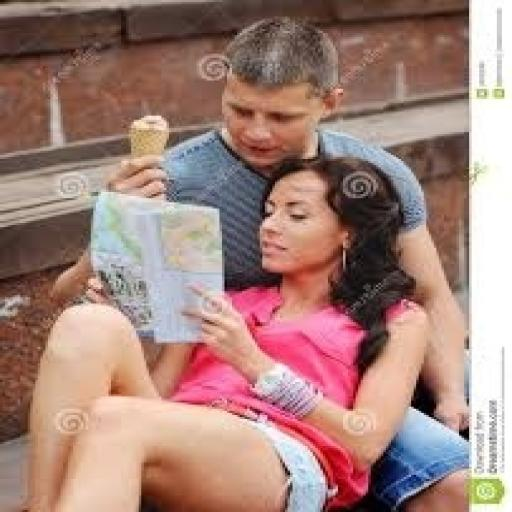sitting: (5, 153, 439, 510)
